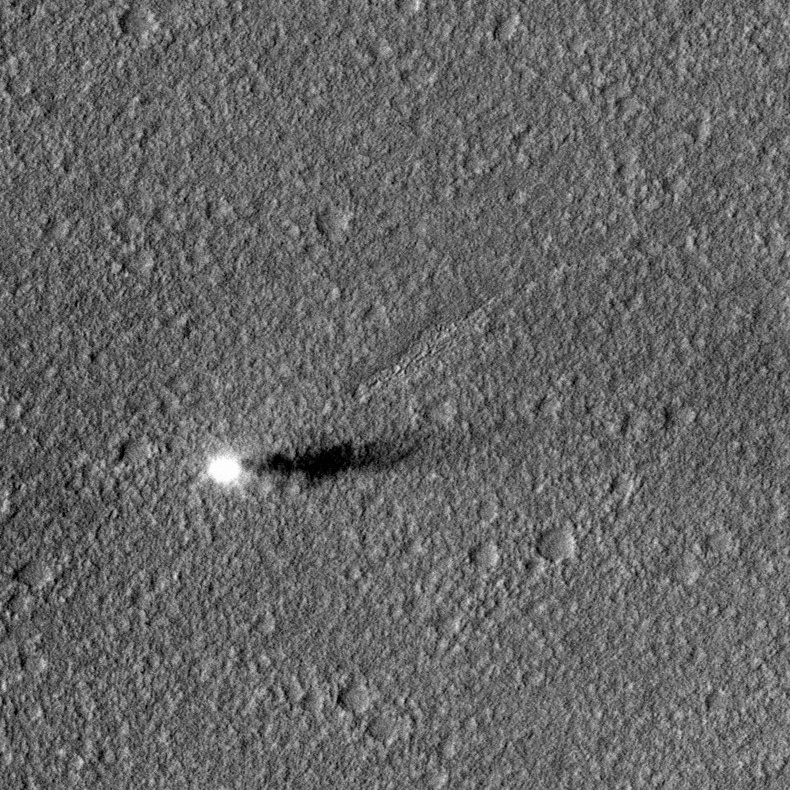dust_devil: (201, 422, 477, 497)
